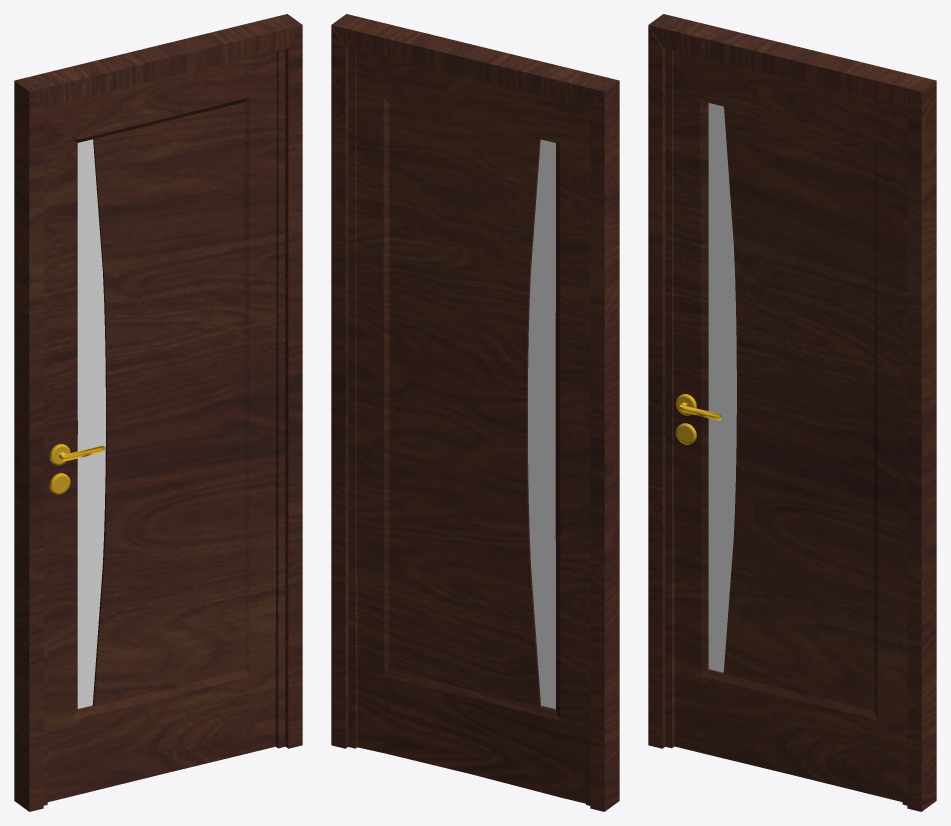
The model's file is PUERTA38_PUGLIA.glb.
3 renders of one model, left to right at view 1: azimuth 30°, elevation 25°; view 2: azimuth 150°, elevation 25°; view 3: azimuth 330°, elevation 25°, orthographic.
Visible parts, largest first — view 1: Puerta38_PUGLIA, Puerta38_Marco, Puerta38_cristales, Puerta38_Cerradura; view 2: Puerta38_PUGLIA, Puerta38_Marco, Puerta38_cristales; view 3: Puerta38_PUGLIA, Puerta38_Marco, Puerta38_cristales, Puerta38_Cerradura.
Boxes of the visible parts, x1,y1,x2,y2 form: Puerta38_PUGLIA: (43,49,285,805); Puerta38_Marco: (14,14,302,811); Puerta38_cristales: (77,139,105,708); Puerta38_Cerradura: (49,443,104,494); Puerta38_PUGLIA: (348,49,590,805); Puerta38_Marco: (331,14,619,811); Puerta38_cristales: (528,139,555,708); Puerta38_PUGLIA: (665,49,907,805); Puerta38_Marco: (648,14,936,811); Puerta38_cristales: (708,103,736,672); Puerta38_Cerradura: (675,394,721,444).
Size of the model in its own units: 769 by 1936 by 85.
Materials: 4 (2 with a texture image).
